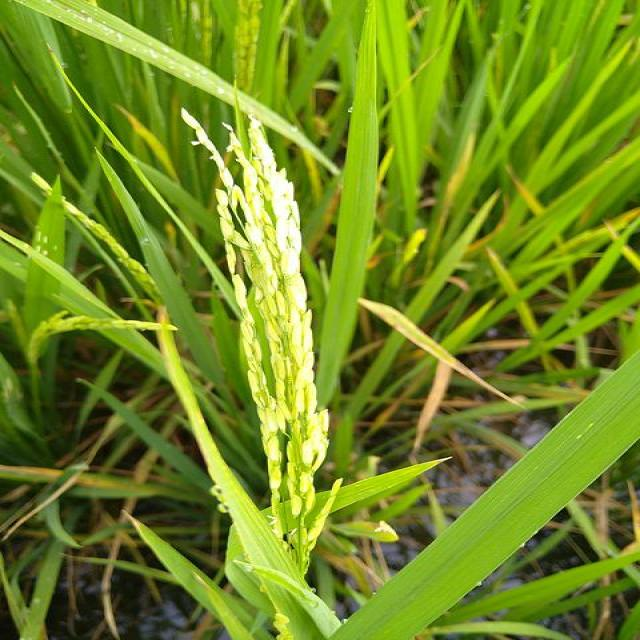Leaf Blight: (357, 298, 520, 406)
